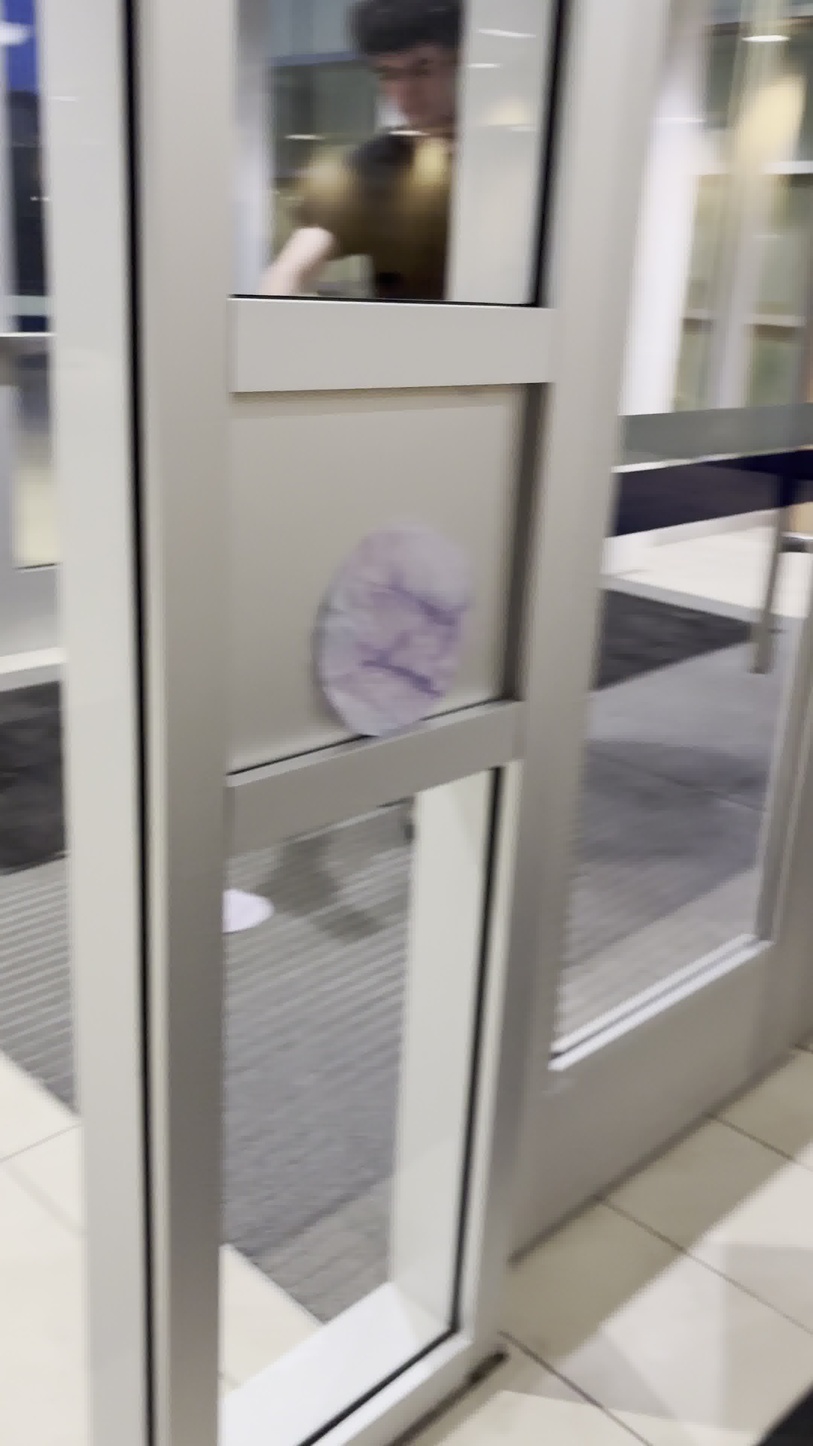Target: (315, 523, 480, 741)
